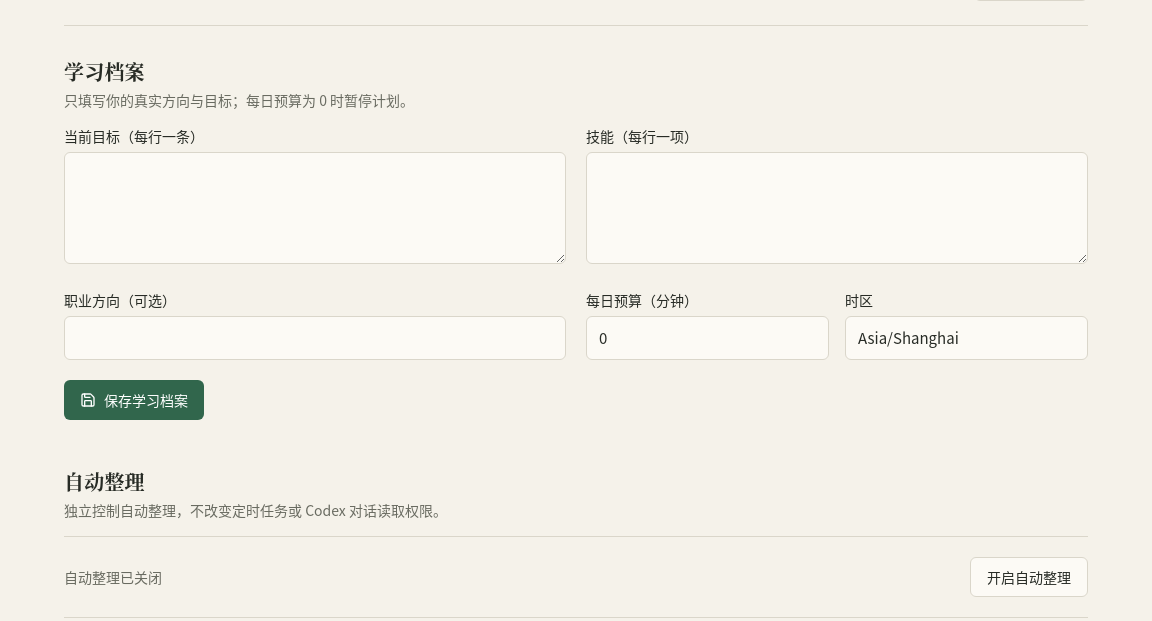
Test: 独立自动整理与高级设置入口 › 自动整理只发送自身状态和修订，不混入 scheduler 或 scope
Check: the text "自动整理已关闭" is shown, box top-left (64, 567), bottom-right (162, 587)
Click the switch labelled "开启自动整理" at (1029, 577), box top-left (970, 557), bottom-right (1088, 597)
(page scrolled)
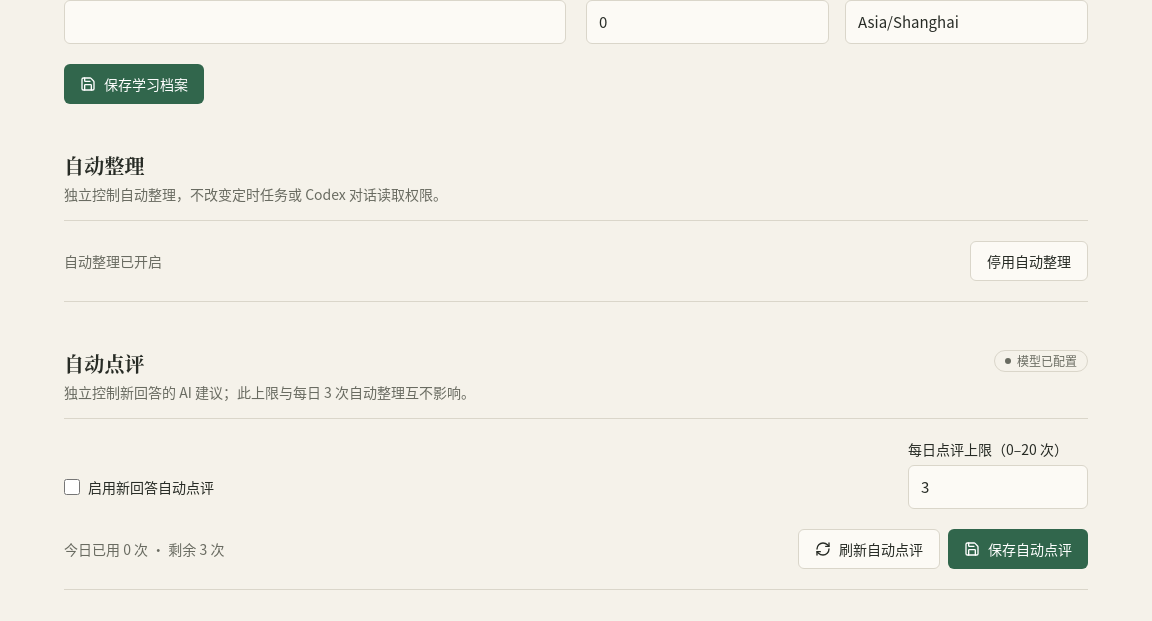
Check: the switch labelled "停用自动整理" is checked, box top-left (970, 241), bottom-right (1088, 281)
